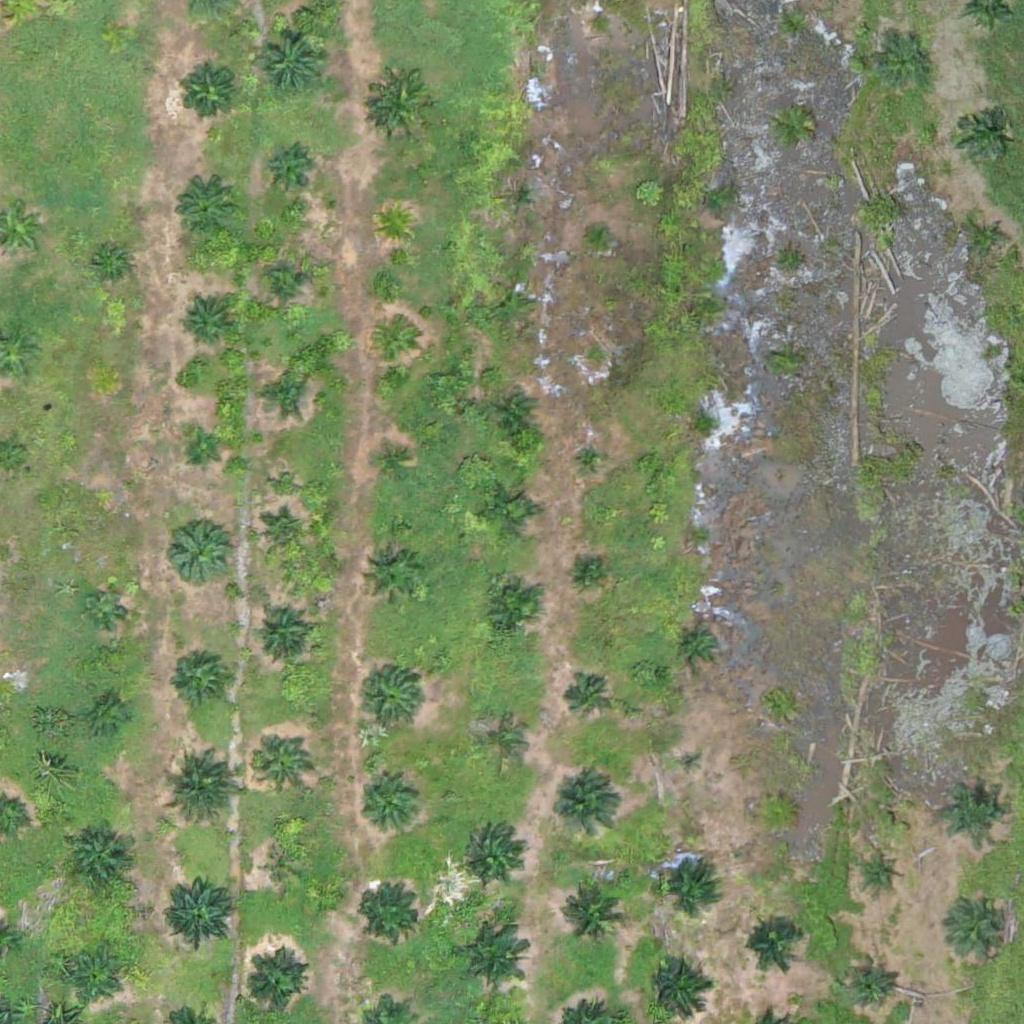Kelapa_Sawit: (455, 920, 530, 996), (548, 773, 623, 849), (556, 875, 631, 951), (160, 754, 235, 829), (162, 868, 237, 943), (252, 22, 327, 97), (166, 518, 229, 581), (369, 74, 432, 137), (953, 894, 1016, 957), (942, 778, 1005, 841), (657, 850, 720, 913), (242, 952, 305, 1015), (65, 828, 127, 891), (167, 645, 229, 708), (172, 177, 234, 240), (176, 60, 238, 123), (250, 602, 312, 665), (742, 912, 804, 975), (360, 882, 422, 945), (646, 958, 709, 1020), (463, 824, 525, 887), (360, 546, 422, 609), (480, 579, 542, 642), (358, 666, 420, 729), (362, 777, 424, 840), (252, 731, 314, 794), (479, 480, 541, 543), (67, 955, 117, 1006), (178, 298, 228, 349), (255, 368, 305, 419), (561, 672, 611, 723), (259, 148, 309, 198), (879, 42, 929, 92), (955, 106, 1005, 156), (845, 956, 895, 1006), (476, 717, 526, 767), (675, 620, 725, 670), (256, 511, 306, 561), (260, 262, 310, 312), (862, 854, 900, 892), (972, 220, 1010, 258), (375, 205, 413, 243), (759, 794, 797, 832), (573, 442, 611, 480), (497, 394, 535, 432), (377, 327, 415, 365), (376, 447, 414, 485), (493, 285, 531, 323), (92, 248, 130, 286), (91, 699, 128, 737), (266, 848, 303, 886), (502, 179, 539, 217), (183, 431, 220, 469), (86, 587, 123, 624), (575, 558, 600, 584), (587, 219, 612, 244), (584, 10, 609, 35), (679, 748, 704, 773)
